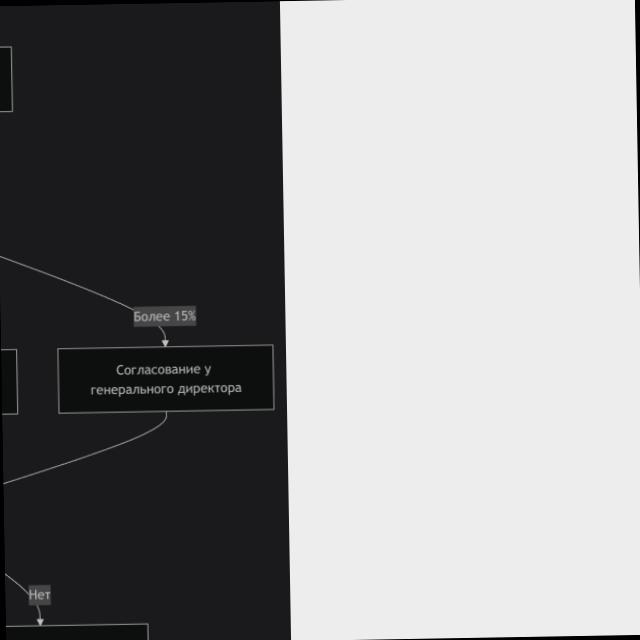rectangle: (53, 340, 279, 418)
text_region: (134, 302, 198, 326)
